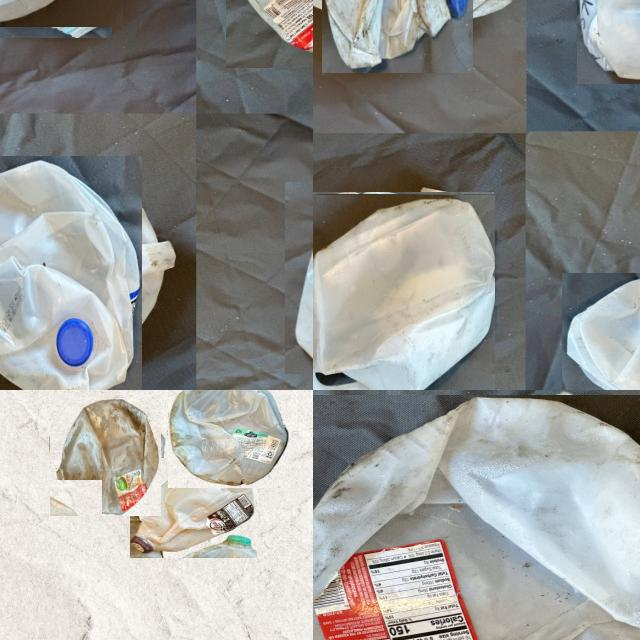milk-jug: (313, 395, 640, 640), (313, 193, 493, 390), (0, 173, 159, 390), (46, 398, 162, 514), (129, 458, 256, 558), (167, 390, 290, 488), (561, 273, 640, 390), (313, 0, 495, 50)
